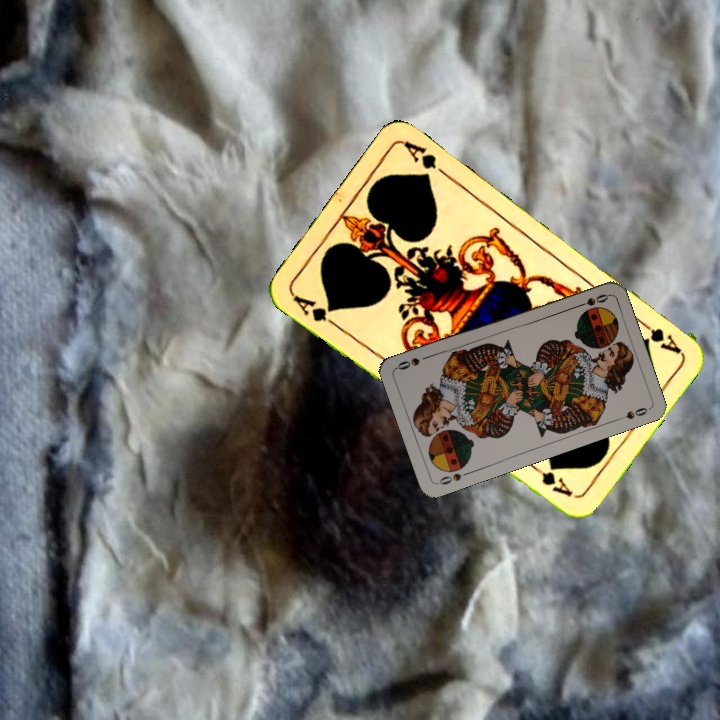GA: (632, 313, 683, 356), (288, 290, 340, 330)
SO: (571, 290, 611, 311), (434, 467, 473, 487)
